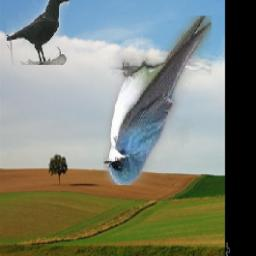Crow: (6, 0, 69, 65)
Swallow: (103, 17, 212, 186)
